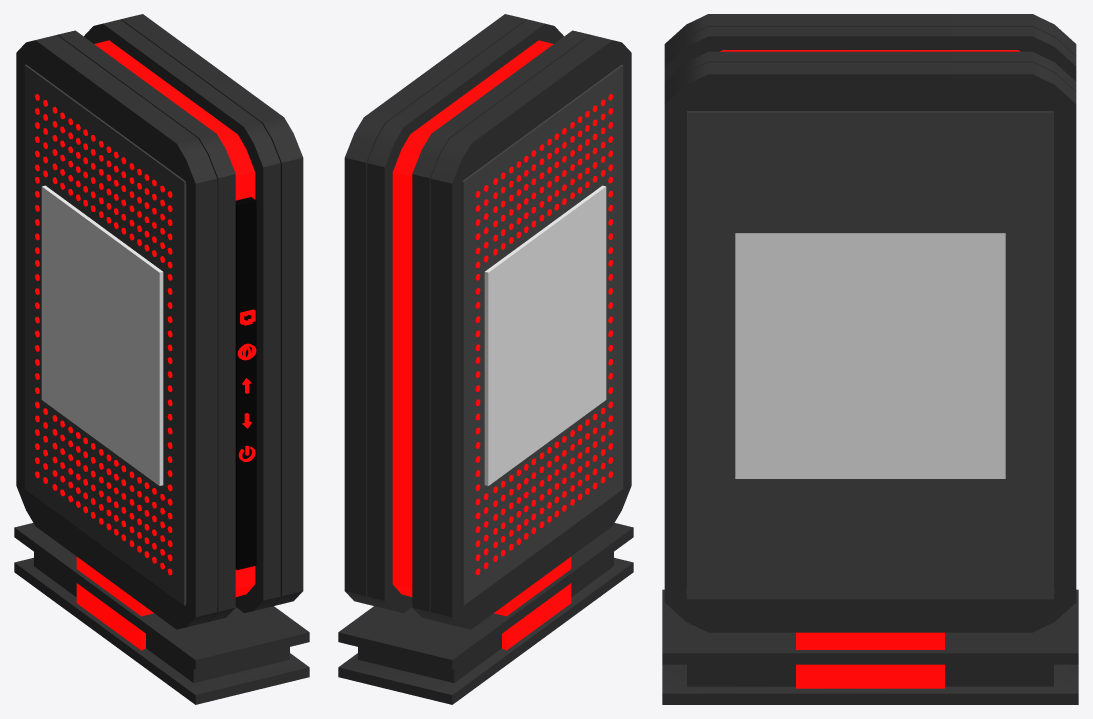
Rendered from modem.glb.
3 views of the same model, side by side, from view 1: azimuth 30°, elevation 25°; view 2: azimuth 150°, elevation 25°; view 3: azimuth 270°, elevation 25° (orthographic). The views are drawn at different scales.
Visible parts, largest first — view 1: Base, glass2, pCube14, stand, group3, front1, pCube3, pCube7; view 2: Base, glass2, pCube14, stand, pCube3, group3, pCube7; view 3: glass1, Base, pCube9, stand, pCube6.
Boxes of the visible parts, x1=… form: Base: x1=16, y1=14, x2=303, y2=629; glass2: x1=24, y1=64, x2=186, y2=605; pCube14: x1=41, y1=185, x2=163, y2=485; stand: x1=14, y1=523, x2=309, y2=704; group3: x1=35, y1=94, x2=172, y2=575; front1: x1=235, y1=197, x2=256, y2=570; pCube3: x1=94, y1=40, x2=255, y2=596; pCube7: x1=76, y1=557, x2=153, y2=650; Base: x1=344, y1=14, x2=631, y2=629; glass2: x1=461, y1=64, x2=623, y2=605; pCube14: x1=484, y1=185, x2=606, y2=485; stand: x1=338, y1=523, x2=633, y2=704; pCube3: x1=392, y1=40, x2=553, y2=596; group3: x1=475, y1=94, x2=612, y2=574; pCube7: x1=494, y1=557, x2=571, y2=650; glass1: x1=687, y1=111, x2=1053, y2=599; Base: x1=664, y1=14, x2=1076, y2=632; pCube9: x1=735, y1=233, x2=1005, y2=478; stand: x1=662, y1=589, x2=1078, y2=704; pCube6: x1=796, y1=632, x2=944, y2=688.
Bounding box in the file's own units: 6.05 × 26.69 × 16.04.
